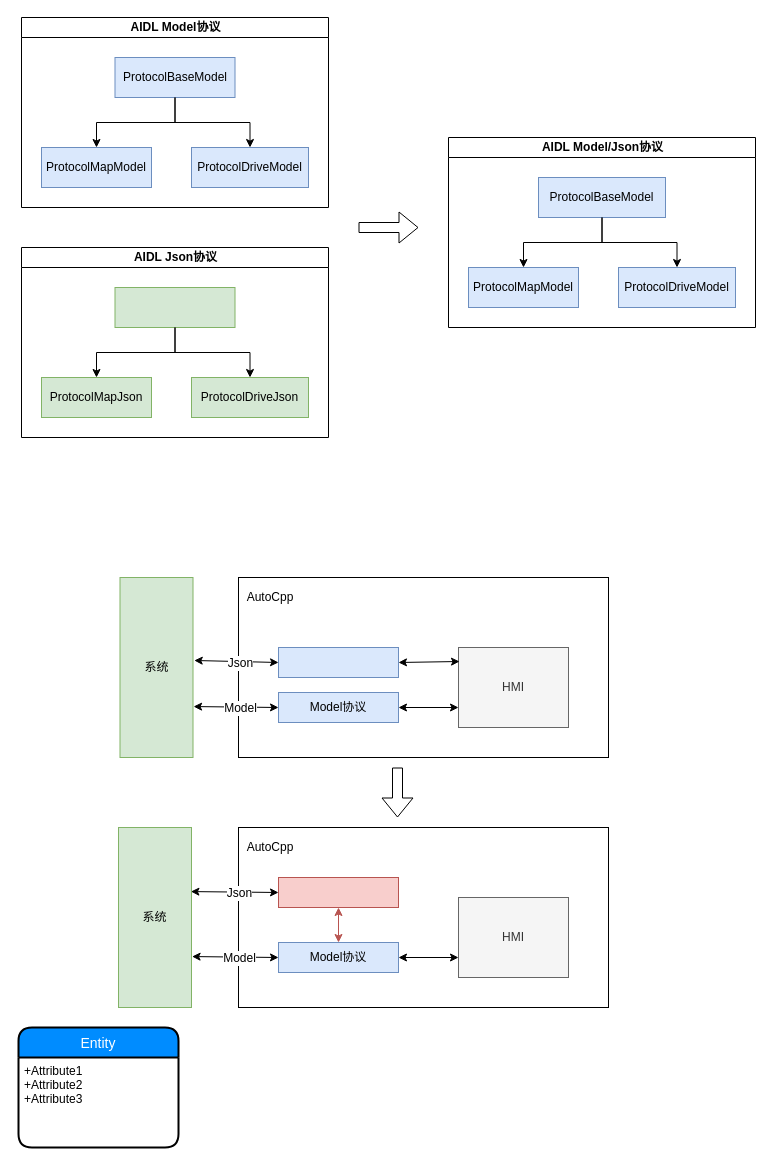
This 773x1166 diagram has some shape labels left out. Here are the shapes that lost their labels. From the top down, the centre of each, then its label:
(x=174, y=307): ProtocolBaseJson
(x=338, y=662): Json协议
(x=338, y=892): model自动生成json
